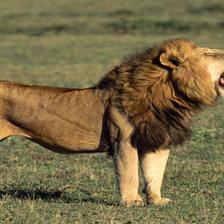Lion: (0, 29, 224, 206)
